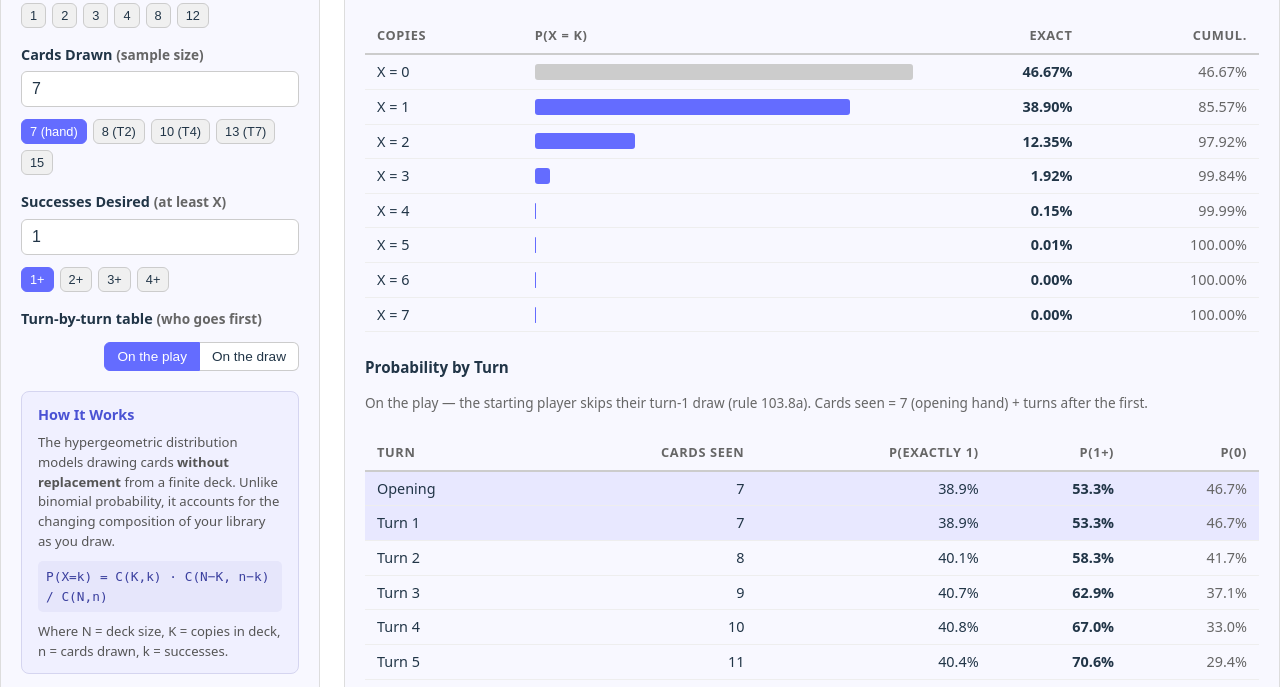
Test: HypergeometricCalculator › on-the-play vs on-the-draw changes turn-1 cards seen
(page scrolled)
Expected: the 2nd text "7" is shown, [535,506,756,541]
Click the button "On the draw" at (249, 356), box [200,342,299,371]
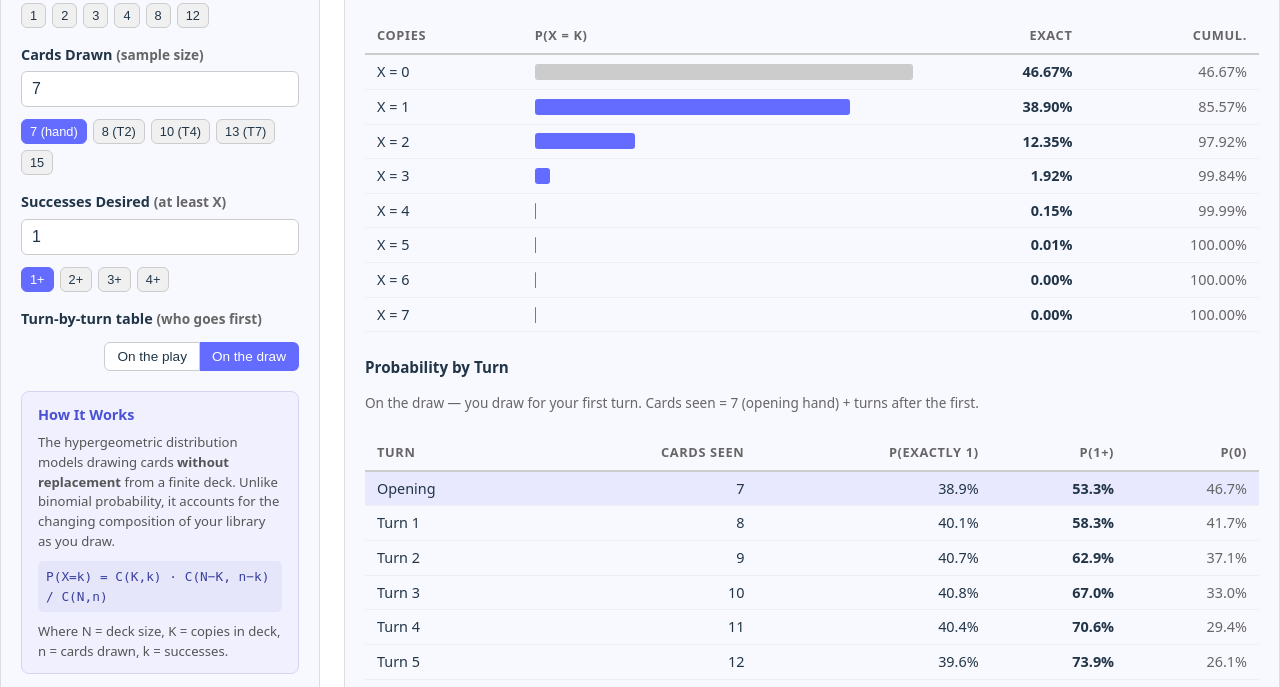
Now the text "8" is shown, box [535,506,756,541]
